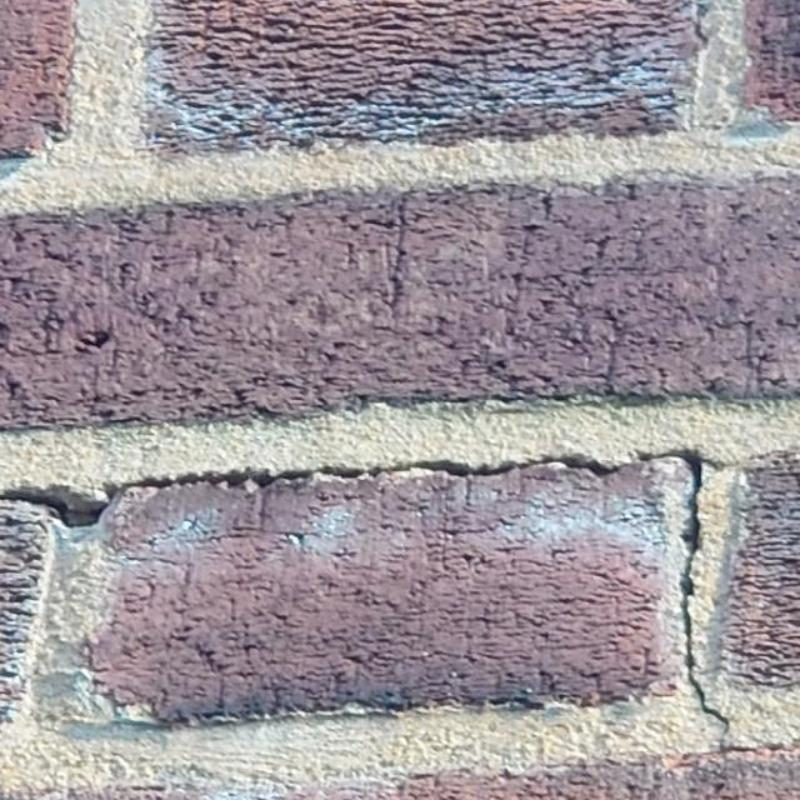pothole: (1, 452, 623, 526), (634, 450, 730, 735)
